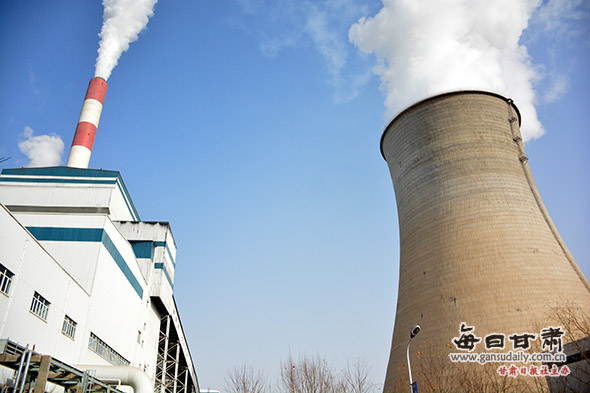dust: (331, 4, 557, 132), (86, 1, 157, 89)
